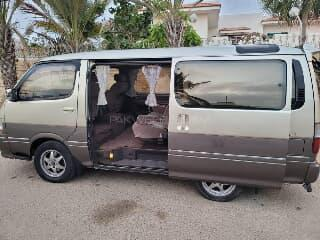Van: (4, 45, 318, 202)
